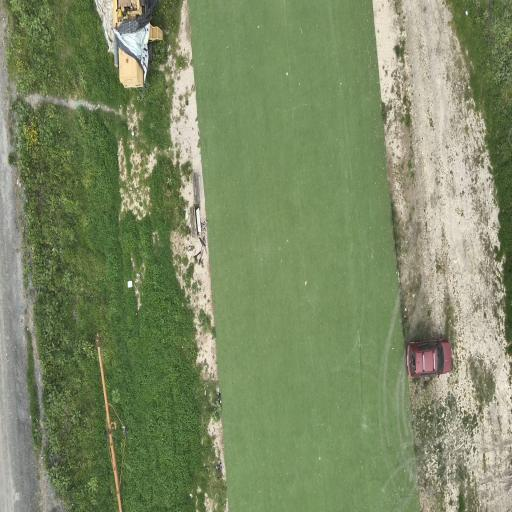car: (407, 340, 452, 377)
harvester: (114, 0, 162, 87)
